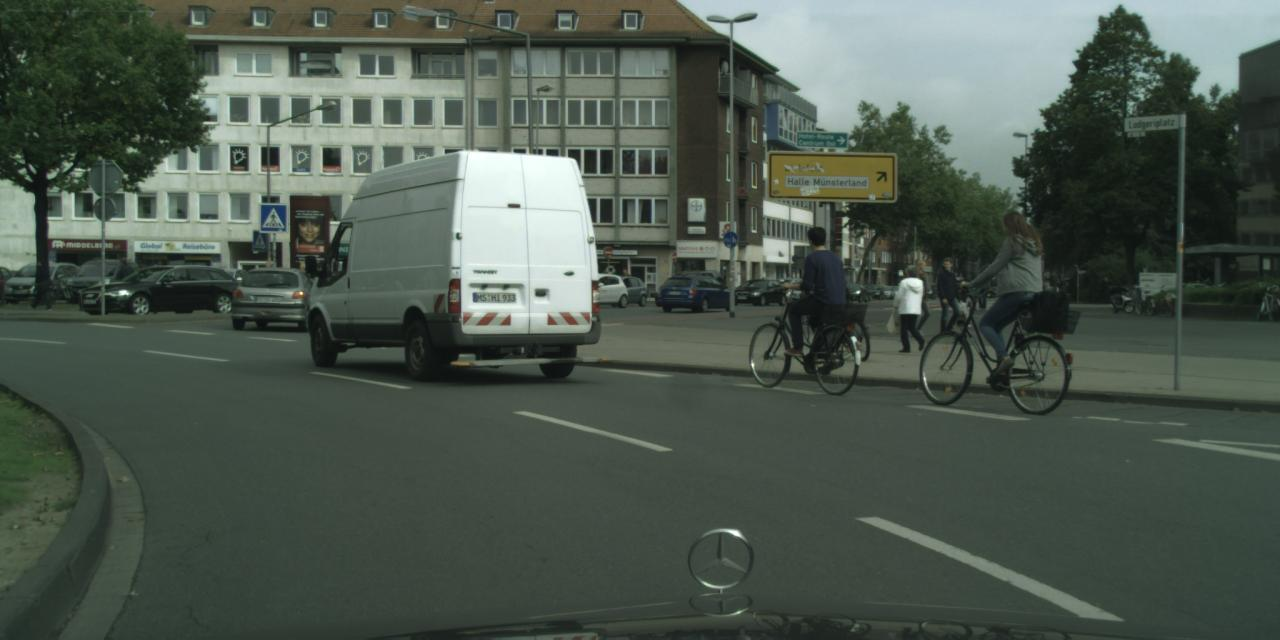ped: (972, 211, 1039, 376), (786, 226, 842, 360), (895, 264, 930, 349), (901, 258, 932, 334), (932, 257, 962, 334), (116, 258, 136, 308), (30, 259, 50, 309), (974, 272, 990, 310), (260, 261, 275, 298), (620, 268, 634, 300)
